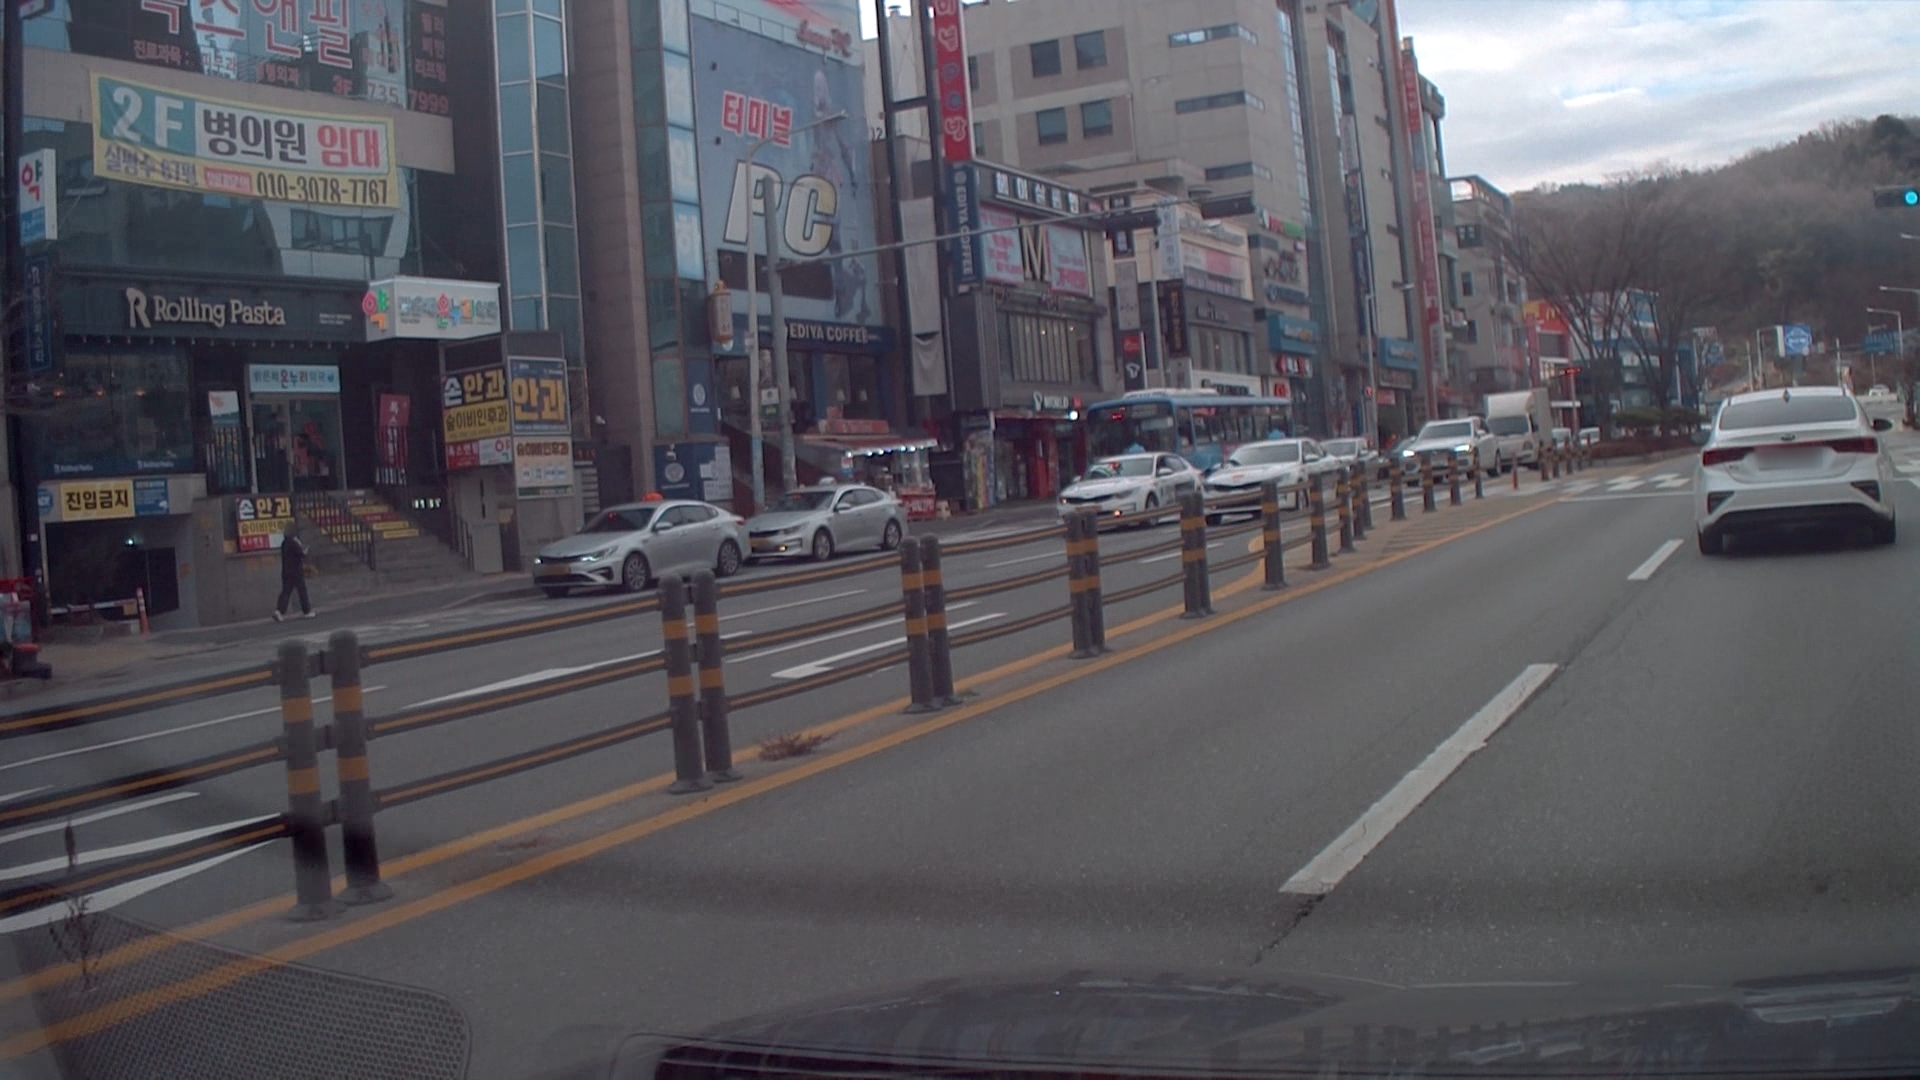trafficLight: (1098, 193, 1257, 233), (1873, 189, 1920, 214)
